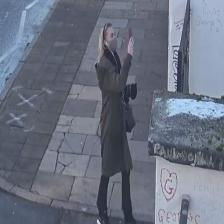person: (95, 23, 137, 224)
